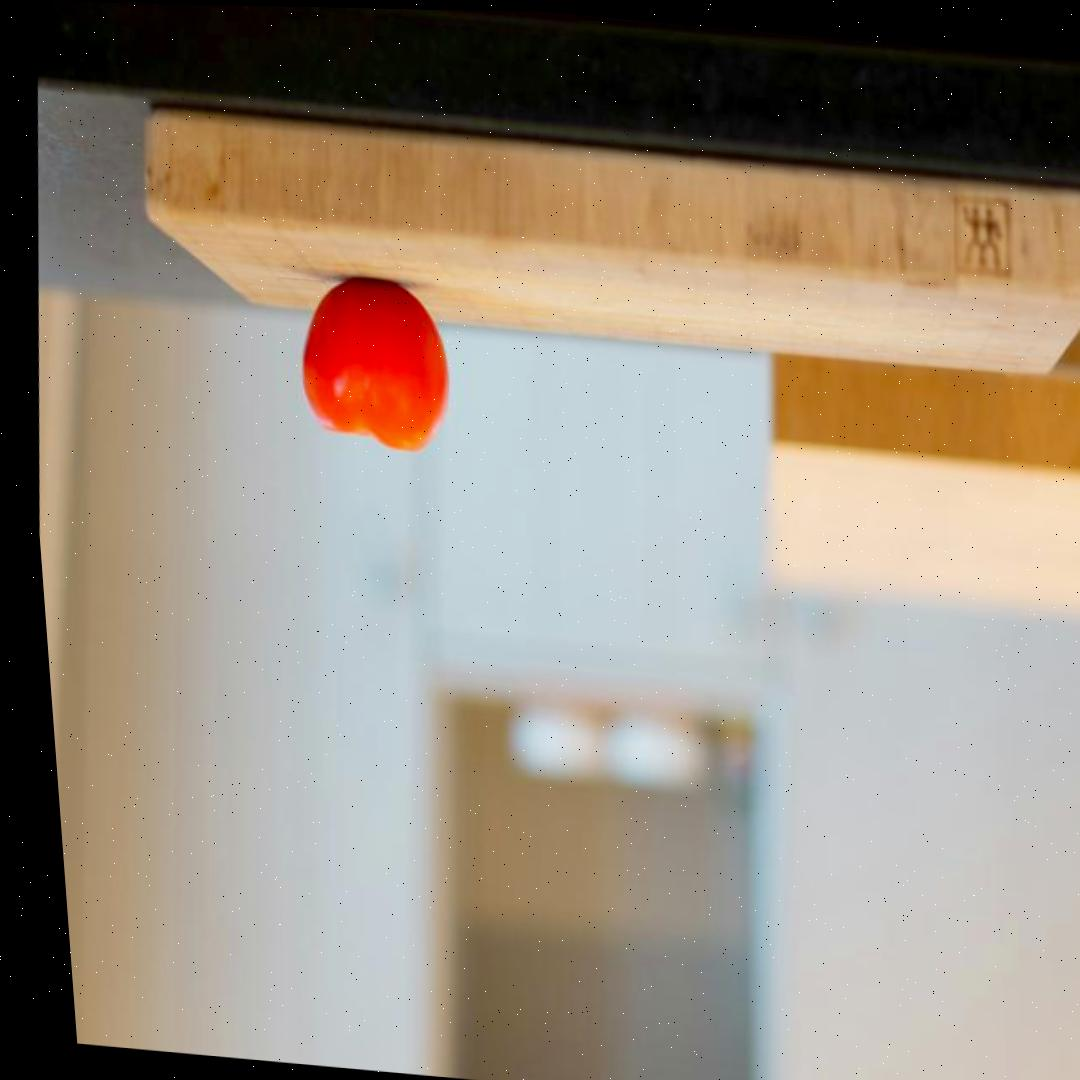matang: (289, 270, 461, 456)
